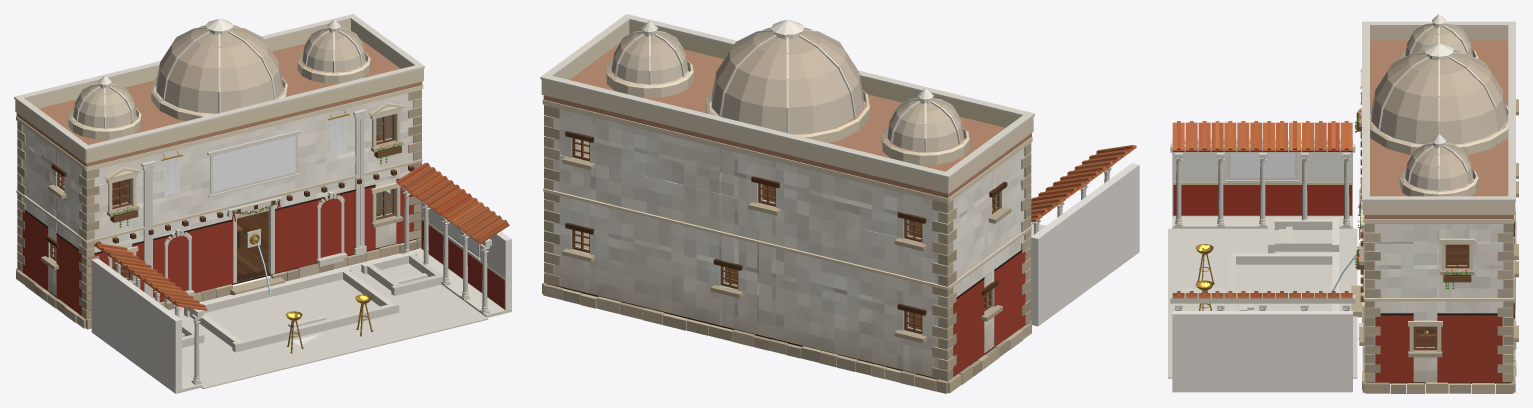
Rendered from civ_thermae.glb.
3 renders of one model, left to right at view 1: azimuth 30°, elevation 25°; view 2: azimuth 150°, elevation 25°; view 3: azimuth 270°, elevation 25°, orthographic. The views are drawn at different scales.
Parts seen in each view (by area): view 1: House, Walls, Rooms; view 2: House, Walls, Rooms; view 3: House, Walls, Rooms.
Part boxes in pixels (x1,y1,x2,y2): House: [14, 14, 511, 393]; Walls: [22, 93, 418, 296]; Rooms: [63, 115, 391, 277]; House: [540, 14, 1139, 393]; Walls: [547, 109, 1024, 376]; Rooms: [576, 139, 992, 329]; House: [1168, 14, 1518, 393]; Walls: [1366, 224, 1511, 382]; Rooms: [1415, 244, 1467, 346].
Bounding box in the file's own units: 10.02 × 6.71 × 8.16.
Materials: 9 (9 with a texture image).
